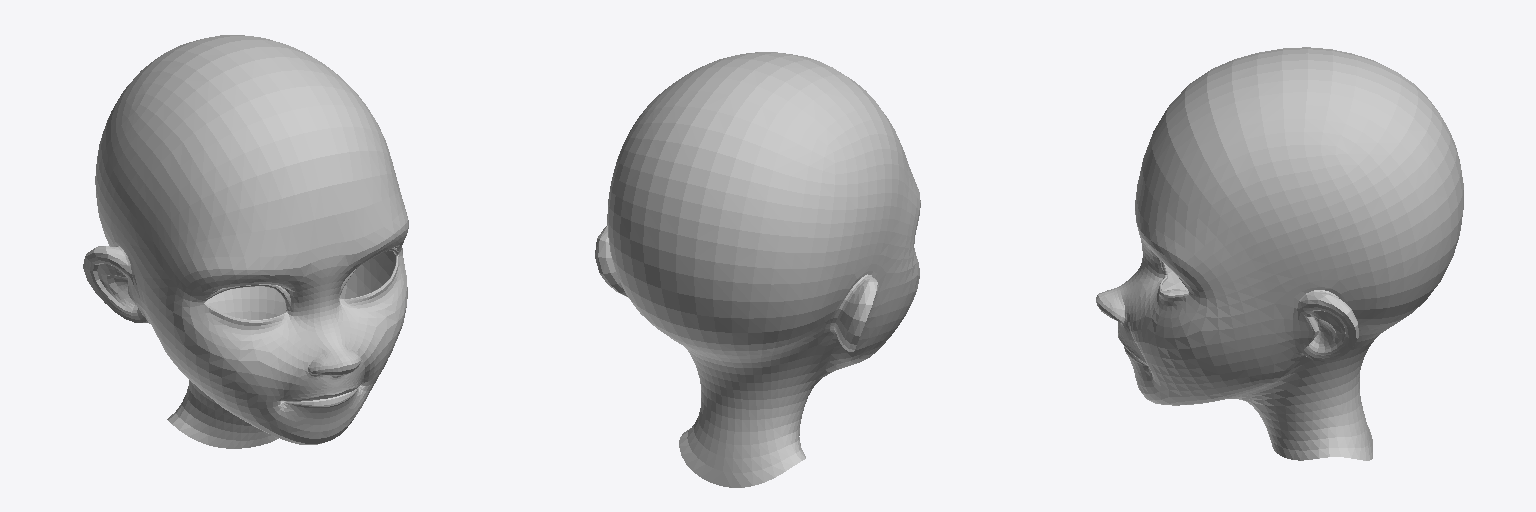
Rendered from pos14.obj.
3 views of the same model, side by side, from view 1: azimuth 30°, elevation 25°; view 2: azimuth 150°, elevation 25°; view 3: azimuth 270°, elevation 25° (orthographic).
Parts seen in each view (by area): view 1: Mesh; view 2: Mesh; view 3: Mesh.
Boxes of the visible parts, x1=… form: Mesh: x1=83, y1=35, x2=408, y2=448; Mesh: x1=595, y1=52, x2=920, y2=487; Mesh: x1=1096, y1=47, x2=1463, y2=460.
Size of the model in its own units: 23.75 by 32.31 by 27.53.